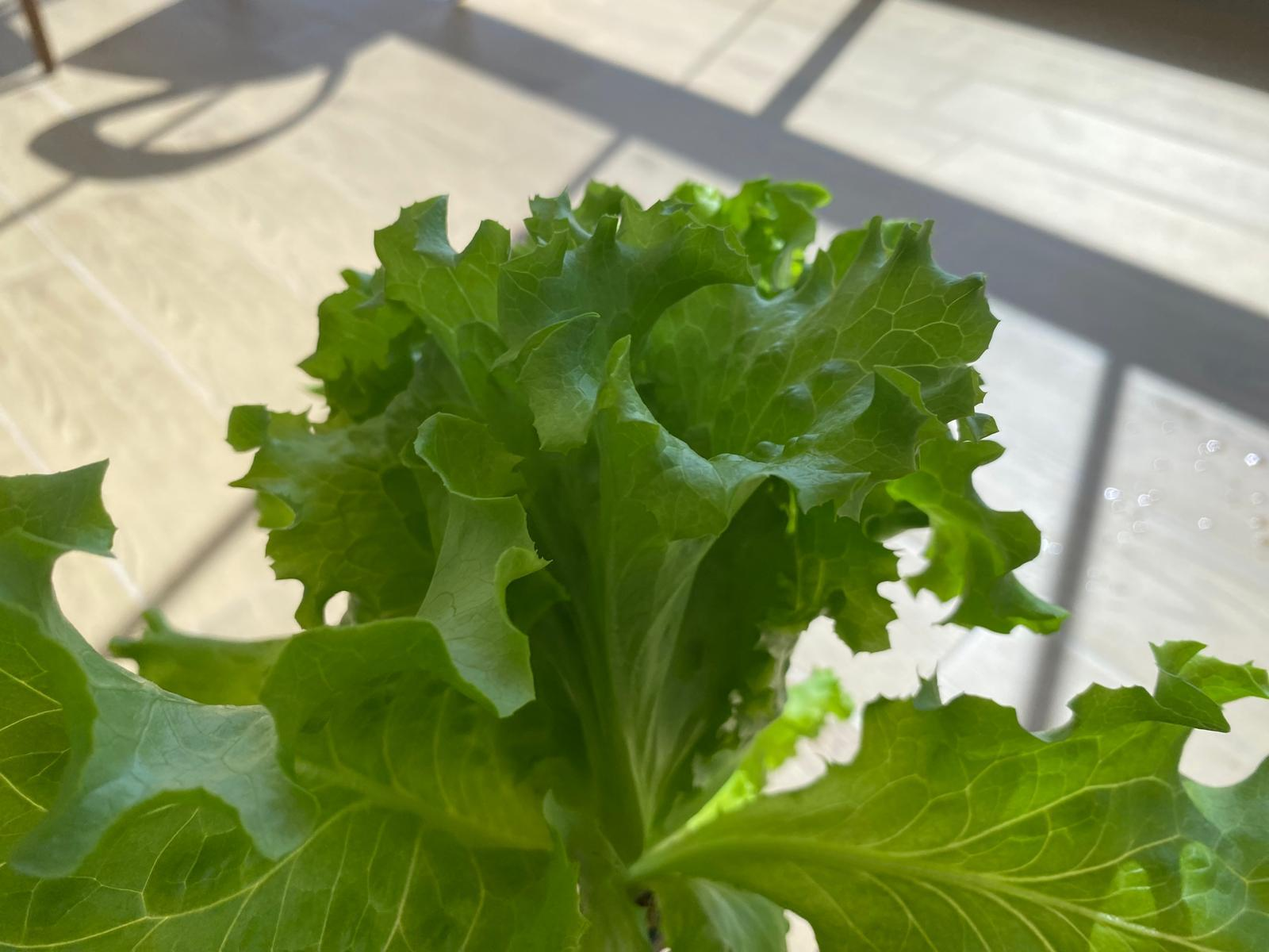Healthy Lettuce: (0, 171, 1269, 952)
